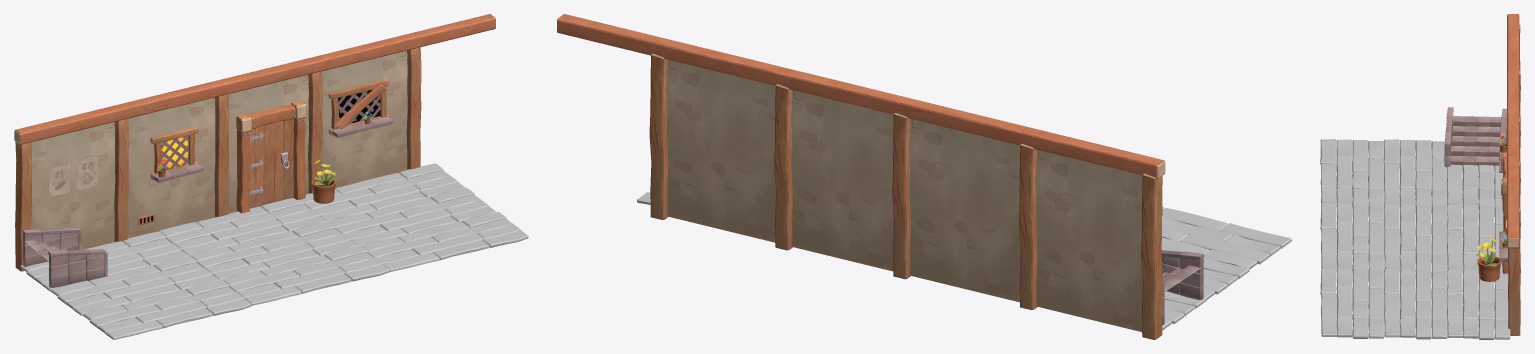
Rendered from fairy roomblend.fbx.
The picture shows the model from 3 angles, left to right: view 1: azimuth 30°, elevation 25°; view 2: azimuth 150°, elevation 25°; view 3: azimuth 270°, elevation 25°; orthographic projection. The views are drawn at different scales.
Parts seen in each view (by area): view 1: Plank_19.001, Plank_19.002, Plank_19, Stylized_House_Modular_Wall1.002, Stylized_House_Modular_Wall1.001, Stylized_House_Modular_Wall1.004, Stylized_House_Modular_Door.001, Stylized_House_Modular_Beam2.001, Stylized_House_Modular_Stairs.001, Stylized_House_Modular_Wall1.003, Stylized_House_Modular_Beam2.002, Stylized_House_Modular_W1.001 (+9 smaller); view 2: Stylized_House_Modular_Wall1.002, Stylized_House_Modular_Wall1.004, Stylized_House_Modular_Wall1.001, Stylized_House_Modular_Wall1.003, Stylized_House_Modular_Beam2.001, Plank_19, Stylized_House_Modular_Beam2.002, Stylized_House_Modular_Plank4.001, Stylized_House_Modular_Plank4.005, Stylized_House_Modular_Plank4.002, Stylized_House_Modular_Plank4.003, Stylized_House_Modular_Plank4.004 (+1 smaller); view 3: Plank_19.002, Plank_19.001, Plank_19, Stylized_House_Modular_Stairs.001, Stylized_House_Modular_Beam2.001, Stylized_House_Modular_Beam2.002, Stylized_House_Modular_Plank4.005, Stylized_House_Modular_Pot2.001, Stylized_House_Modular_Door.001, Stylized_House_Modular_W1.001.
Part boxes in pixels (bbox=[...]): Plank_19.001: bbox=[159, 198, 389, 305]; Plank_19.002: bbox=[301, 163, 528, 271]; Plank_19: bbox=[20, 231, 251, 339]; Stylized_House_Modular_Wall1.002: bbox=[128, 97, 215, 238]; Stylized_House_Modular_Wall1.001: bbox=[31, 122, 115, 249]; Stylized_House_Modular_Wall1.004: bbox=[321, 50, 407, 187]; Stylized_House_Modular_Door.001: bbox=[236, 100, 306, 213]; Stylized_House_Modular_Beam2.001: bbox=[14, 56, 324, 144]; Stylized_House_Modular_Stairs.001: bbox=[22, 227, 107, 288]; Stylized_House_Modular_Wall1.003: bbox=[228, 74, 308, 213]; Stylized_House_Modular_Beam2.002: bbox=[318, 14, 495, 70]; Stylized_House_Modular_W1.001: bbox=[328, 78, 393, 137]; Stylized_House_Modular_Wall1.002: bbox=[909, 119, 1020, 302]; Stylized_House_Modular_Wall1.004: bbox=[667, 60, 775, 242]; Stylized_House_Modular_Wall1.001: bbox=[1036, 150, 1142, 331]; Stylized_House_Modular_Wall1.003: bbox=[791, 90, 893, 271]; Stylized_House_Modular_Beam2.001: bbox=[773, 67, 1165, 178]; Plank_19: bbox=[1161, 207, 1291, 330]; Stylized_House_Modular_Beam2.002: bbox=[557, 14, 780, 85]; Stylized_House_Modular_Plank4.001: bbox=[1141, 173, 1162, 339]; Stylized_House_Modular_Plank4.005: bbox=[649, 53, 668, 219]; Stylized_House_Modular_Plank4.002: bbox=[1018, 144, 1037, 309]; Stylized_House_Modular_Plank4.003: bbox=[774, 84, 792, 250]; Stylized_House_Modular_Plank4.004: bbox=[892, 113, 910, 279]; Plank_19.002: bbox=[1320, 269, 1510, 339]; Plank_19.001: bbox=[1320, 204, 1503, 273]; Plank_19: bbox=[1320, 139, 1502, 209]; Stylized_House_Modular_Stairs.001: bbox=[1444, 107, 1506, 167]; Stylized_House_Modular_Beam2.001: bbox=[1507, 14, 1519, 157]; Stylized_House_Modular_Beam2.002: bbox=[1507, 156, 1519, 248]; Stylized_House_Modular_Plank4.005: bbox=[1508, 207, 1520, 335]; Stylized_House_Modular_Pot2.001: bbox=[1476, 238, 1501, 281]; Stylized_House_Modular_Door.001: bbox=[1501, 152, 1508, 273]; Stylized_House_Modular_W1.001: bbox=[1499, 220, 1508, 261].
Bounding box in the file's own units: 5607 × 1545 × 2107.
